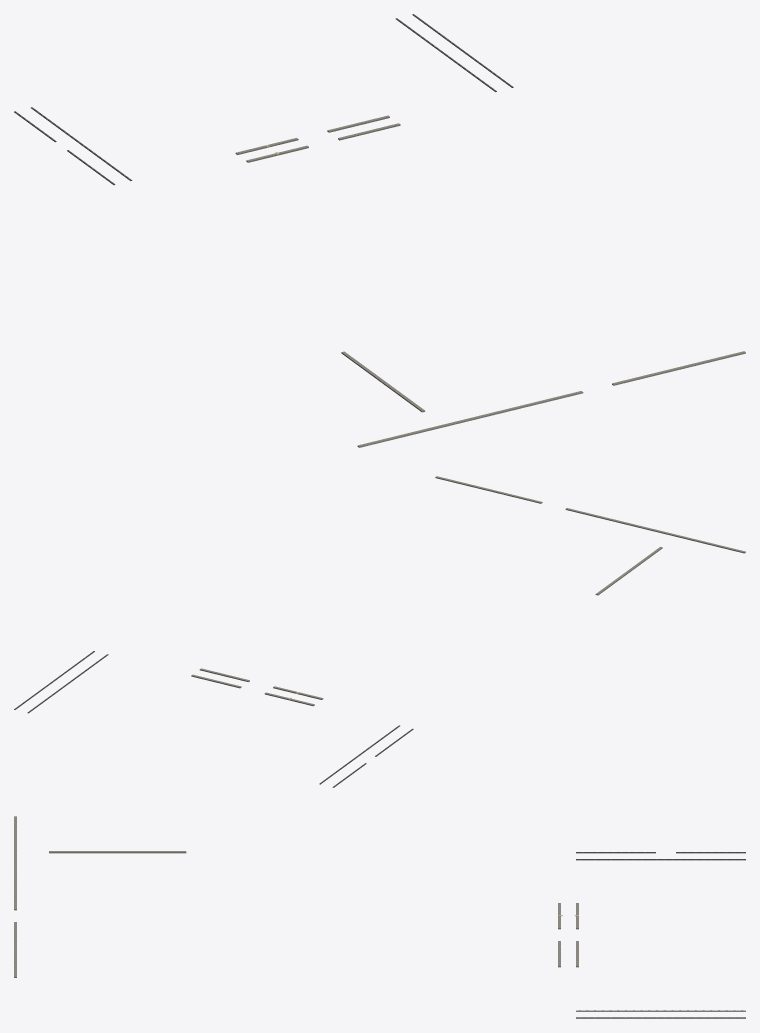
Rendered from TodaRush_RoadsideInfrastructure_Philippine_Redesign.glb.
3 renders of one model, top to bottom at view 1: azimuth 30°, elevation 25°; view 2: azimuth 150°, elevation 25°; view 3: azimuth 270°, elevation 25°, orthographic. The views are drawn at different scales.
Visible parts, largest first — view 1: Sidewalk_hall_school_neg_1; view 2: Sidewalk_hall_school_neg_1; view 3: Sidewalk_school_W_pos_0.
Boxes of the visible parts, <box> form: Sidewalk_hall_school_neg_1: <box>357,391,583,447</box>; Sidewalk_hall_school_neg_1: <box>565,508,745,553</box>; Sidewalk_school_W_pos_0: <box>49,851,186,853</box>.
Bounding box in the file's own units: 191 × 0.4886 × 293.
Materials: 5 (2 with a texture image).
